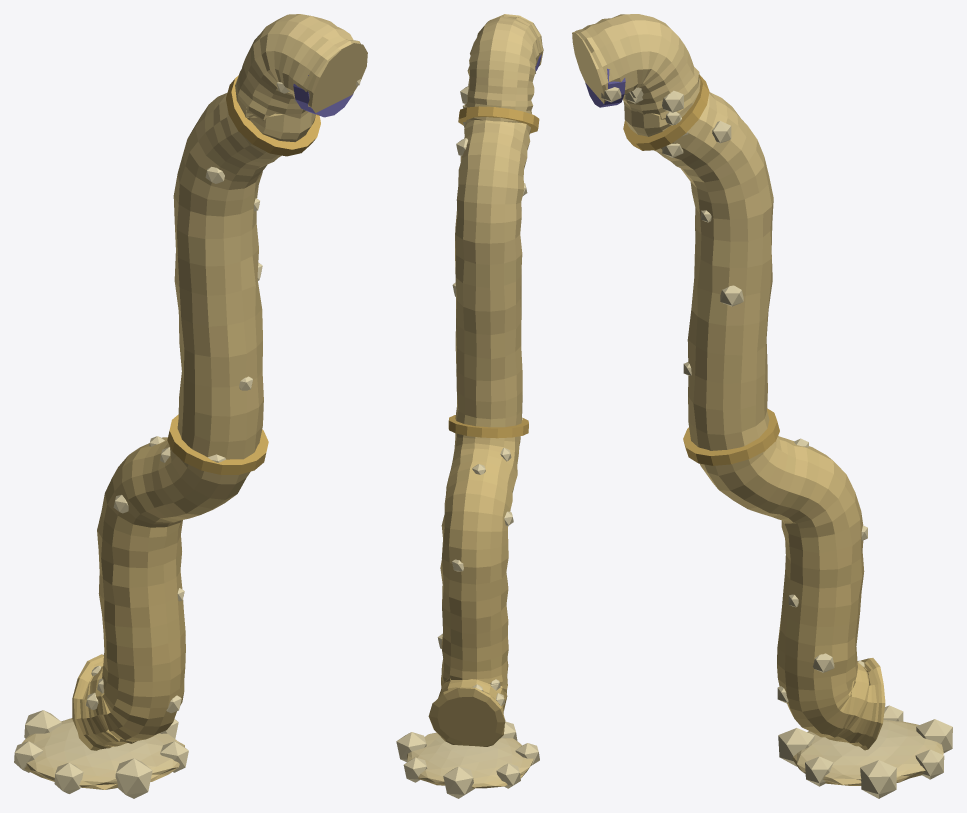
File: goo_drop_tube_goo_3@starlight.fbx
3 renders of one model, left to right at view 1: azimuth 30°, elevation 25°; view 2: azimuth 150°, elevation 25°; view 3: azimuth 270°, elevation 25°, orthographic. The views are drawn at different scales.
Parts seen in each view (by area): view 1: goo_drop_tube_goo_3; view 2: goo_drop_tube_goo_3; view 3: goo_drop_tube_goo_3.
Boxes of the visible parts, x1,y1,x2,y2 form: goo_drop_tube_goo_3: [14, 14, 367, 798]; goo_drop_tube_goo_3: [396, 14, 543, 798]; goo_drop_tube_goo_3: [572, 14, 952, 798].
Bounding box in the file's own units: 9.68 × 37.69 × 16.49.
